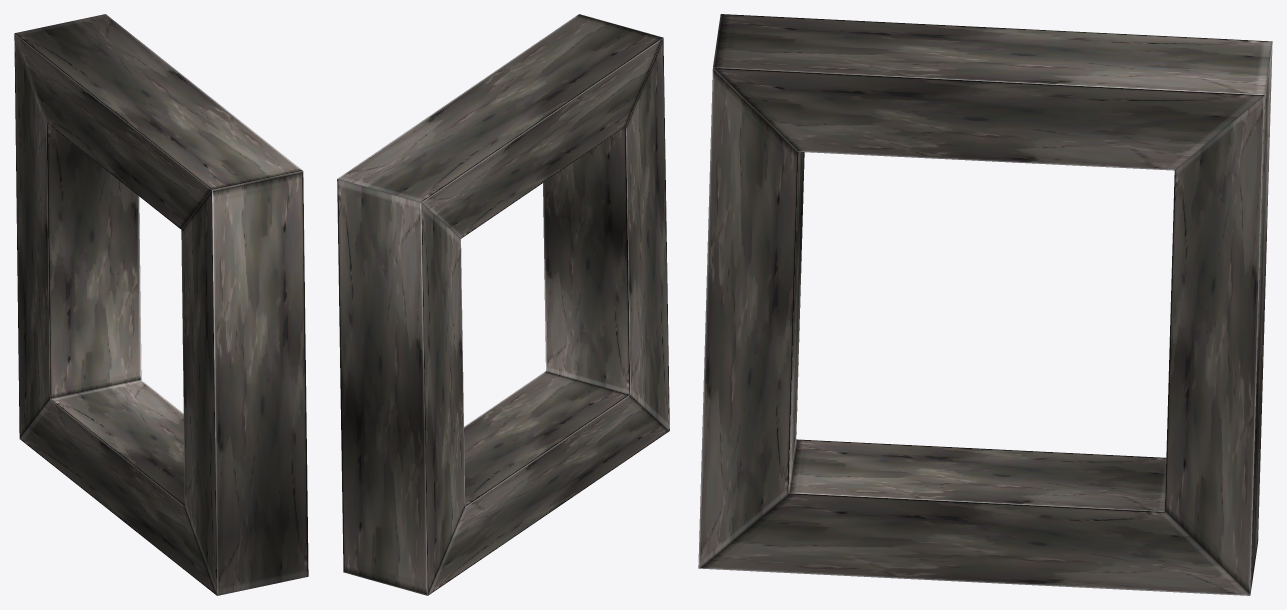
The model's file is CH09_SMAUG_PLAYSURFACE_LAIR88.fbx.
3 renders of one model, left to right at view 1: azimuth 30°, elevation 25°; view 2: azimuth 150°, elevation 25°; view 3: azimuth 270°, elevation 25°, orthographic. The views are drawn at different scales.
Visible parts, largest first — view 1: CH09_SMAUG_PLAYSURFACE_LAIR88; view 2: CH09_SMAUG_PLAYSURFACE_LAIR88; view 3: CH09_SMAUG_PLAYSURFACE_LAIR88.
Part boxes in pixels (left/top/right/bottom): CH09_SMAUG_PLAYSURFACE_LAIR88: left=14, top=14, right=308, bottom=595; CH09_SMAUG_PLAYSURFACE_LAIR88: left=337, top=14, right=669, bottom=595; CH09_SMAUG_PLAYSURFACE_LAIR88: left=698, top=14, right=1272, bottom=595.
Bounding box in the file's own units: 4067 × 14249 × 14418.
Materials: 1 (1 with a texture image).
